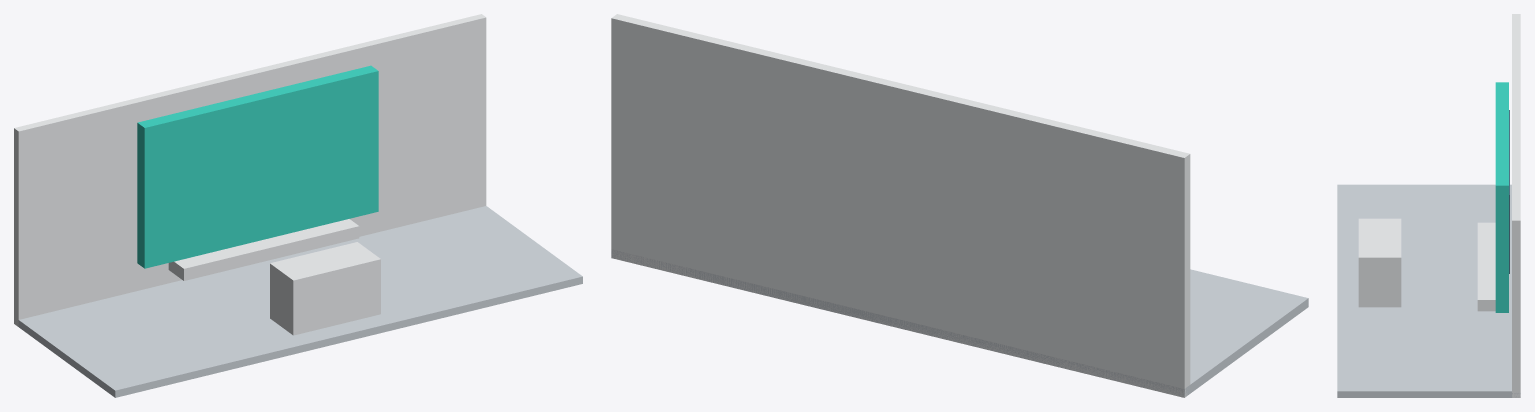
3 views of the same model, side by side, from view 1: azimuth 30°, elevation 25°; view 2: azimuth 150°, elevation 25°; view 3: azimuth 270°, elevation 25° (orthographic). The views are drawn at different scales.
Parts seen in each view (by area): view 1: Exhibition Booth Concept; view 2: Exhibition Booth Concept; view 3: Exhibition Booth Concept.
Part boxes in pixels (x1=…): Exhibition Booth Concept: x1=14, y1=14, x2=582, y2=397; Exhibition Booth Concept: x1=611, y1=14, x2=1308, y2=397; Exhibition Booth Concept: x1=1337, y1=14, x2=1520, y2=397.
Bounding box in the file's own units: 8 × 3.2 × 3.
